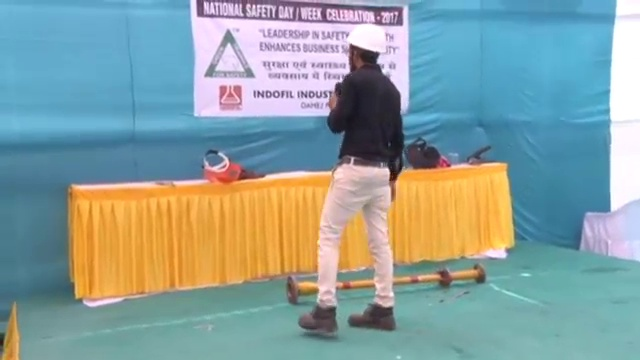helmet: (345, 24, 389, 54)
helmet_on: (344, 23, 389, 72)
person: (300, 24, 398, 338)
